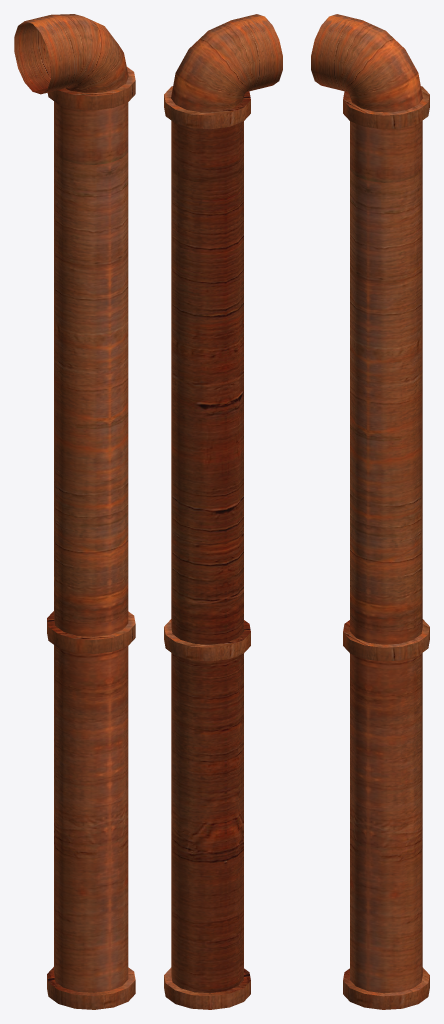
File: pipe_03.fbx
The picture shows the model from 3 angles, left to right: view 1: azimuth 30°, elevation 25°; view 2: azimuth 210°, elevation 25°; view 3: azimuth 330°, elevation 25°; orthographic projection. The views are drawn at different scales.
Parts seen in each view (by area): view 1: pipe_03; view 2: pipe_03; view 3: pipe_03.
Part boxes in pixels (x1,y1,x2,y2): pipe_03: (14,14,135,1009); pipe_03: (164,14,282,1009); pipe_03: (311,14,429,1009).
Bounding box in the file's own units: 0.3714 × 3.61 × 0.2991.
